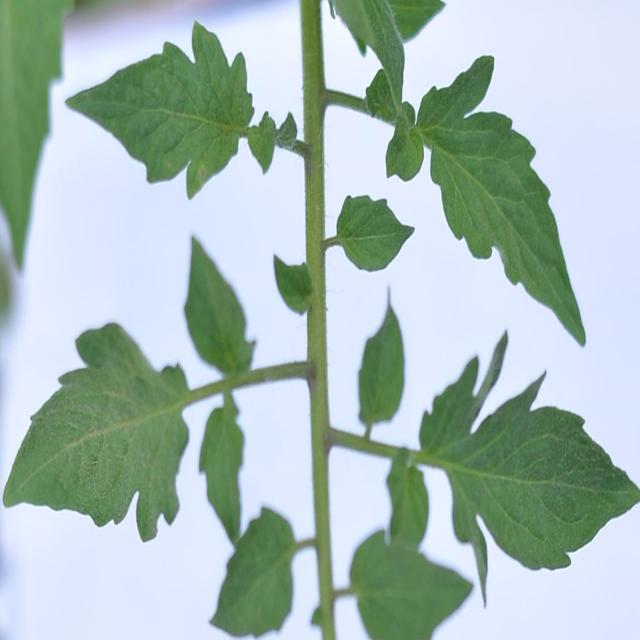healthy: (349, 356, 639, 640), (360, 48, 592, 348), (0, 317, 190, 563), (56, 14, 304, 199), (204, 506, 298, 640), (181, 232, 256, 386), (197, 401, 250, 544)
